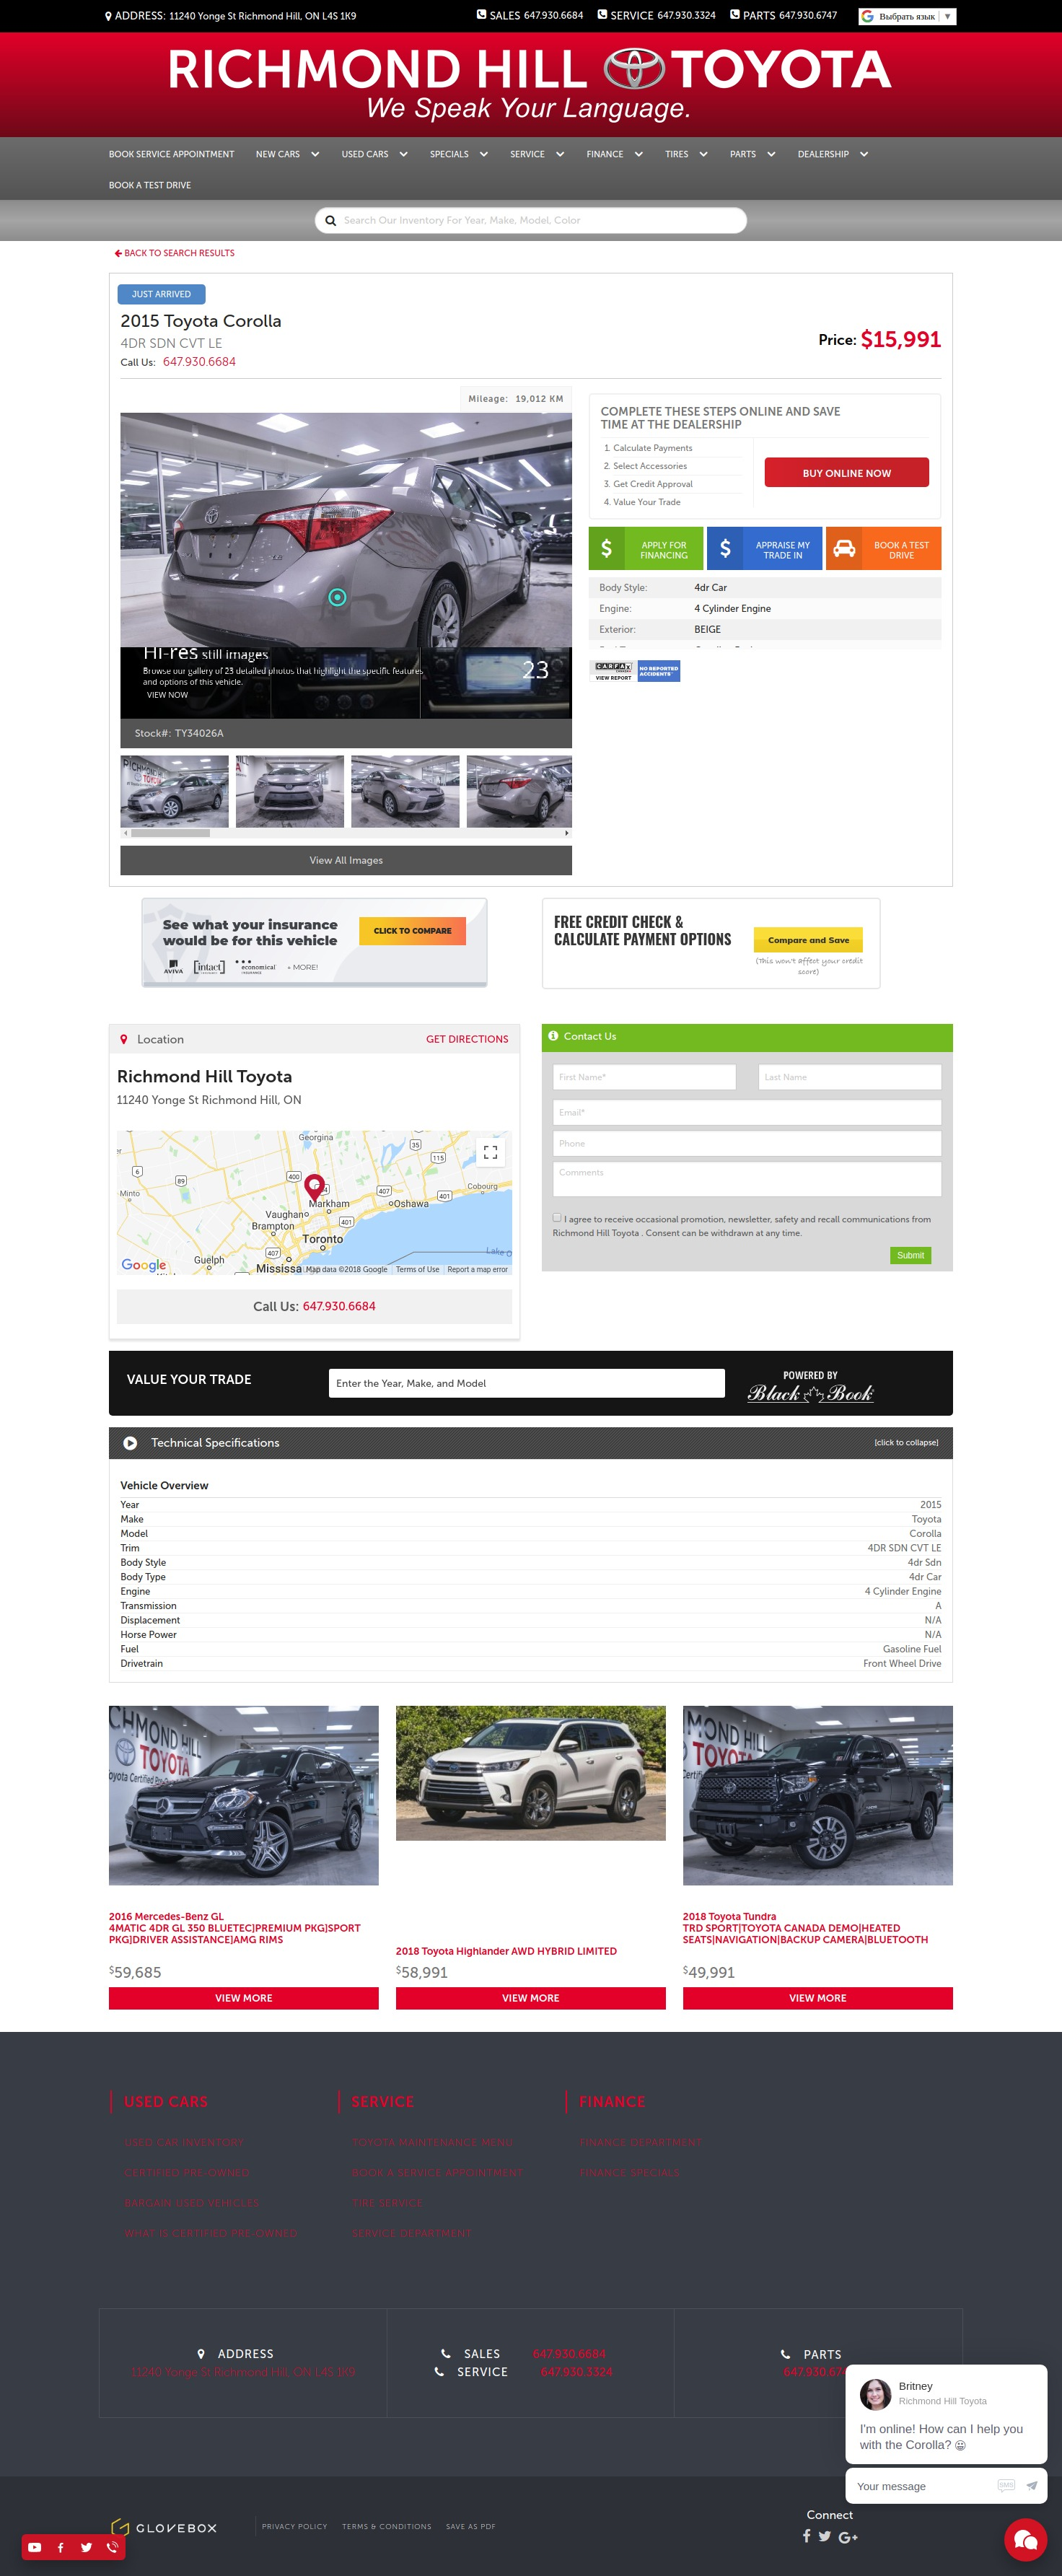car: (566, 830, 570, 836)
